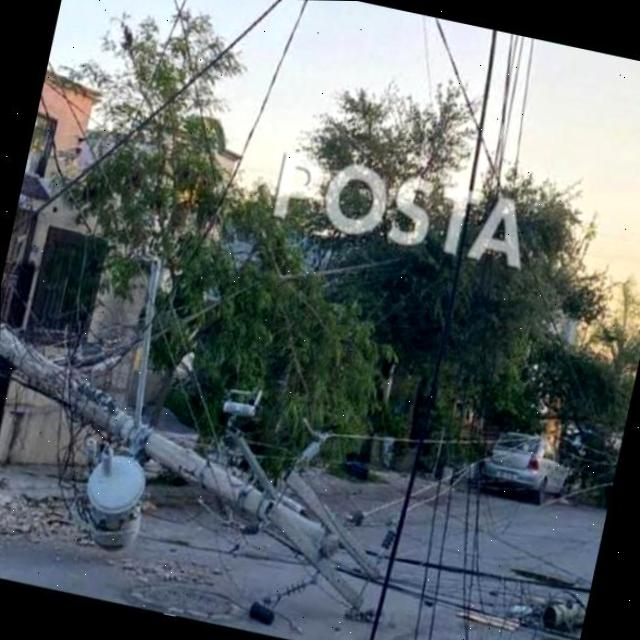Broken Pole: (0, 313, 388, 633)
